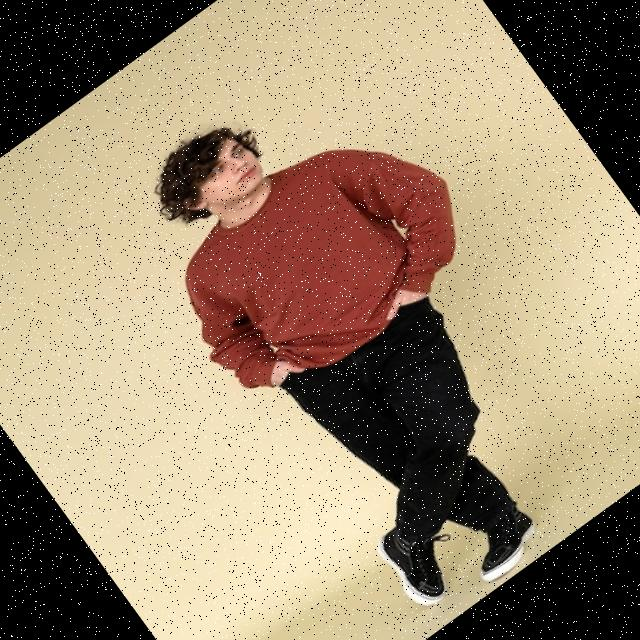Person: (98, 32, 640, 638)
